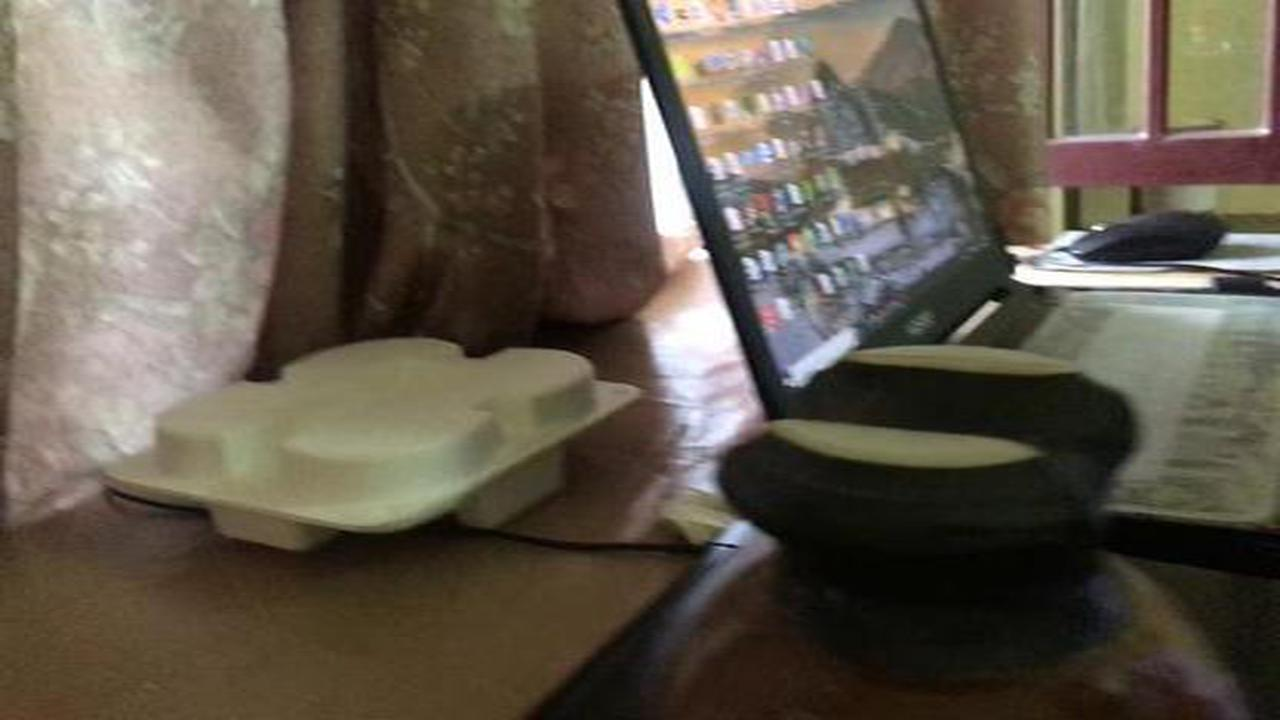insulator_pin: (628, 329, 1259, 712)
